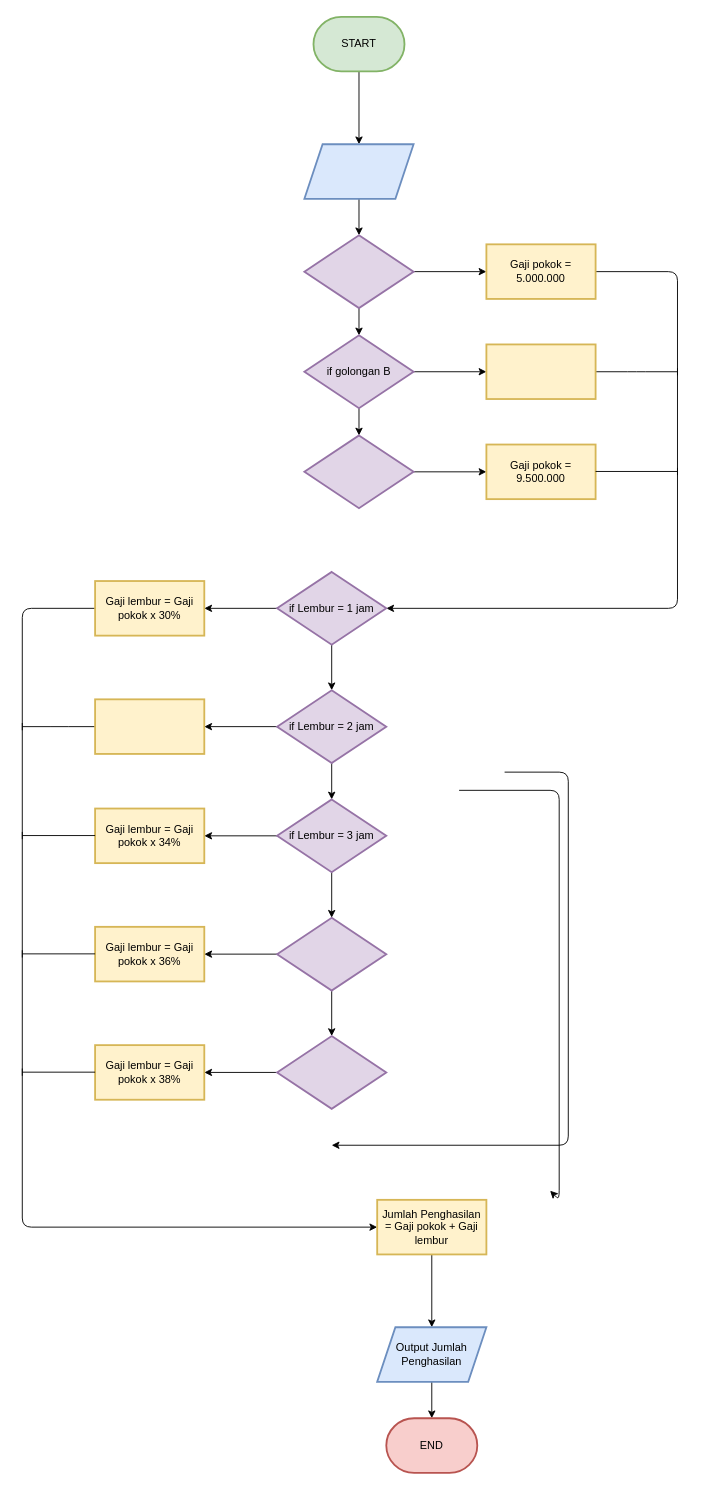
Some shapes in this 701 by 1489 pixel diagram are drawn without their labels. Each missing label, with the box of its shape:
Gaji lembur = Gaji pokok x 32%: (94, 698, 205, 754)
Gaji pokok = 6.500.000: (485, 343, 596, 399)
if golongan A: (303, 234, 414, 308)
if golongan C: (303, 434, 414, 509)
if Lembur = 4 jam: (276, 916, 387, 991)
if Lembur >= 5 jam: (276, 1035, 387, 1109)
Input Golongan, Jam Lembur: (303, 143, 414, 199)
